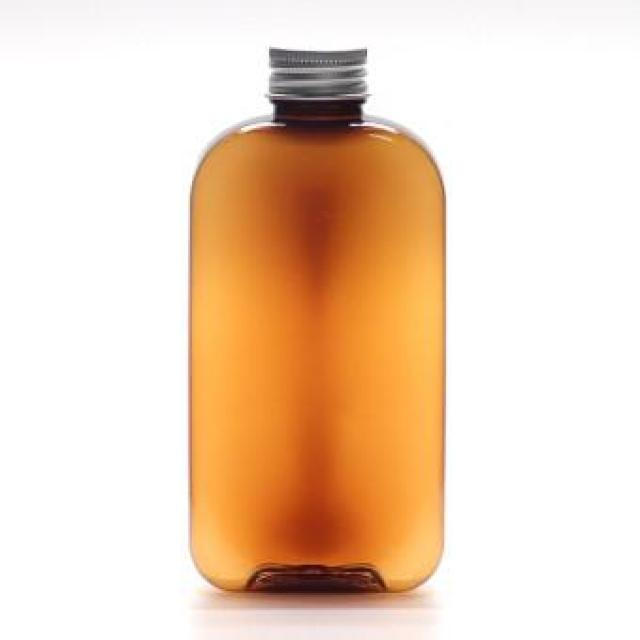bottle: (190, 45, 446, 595)
